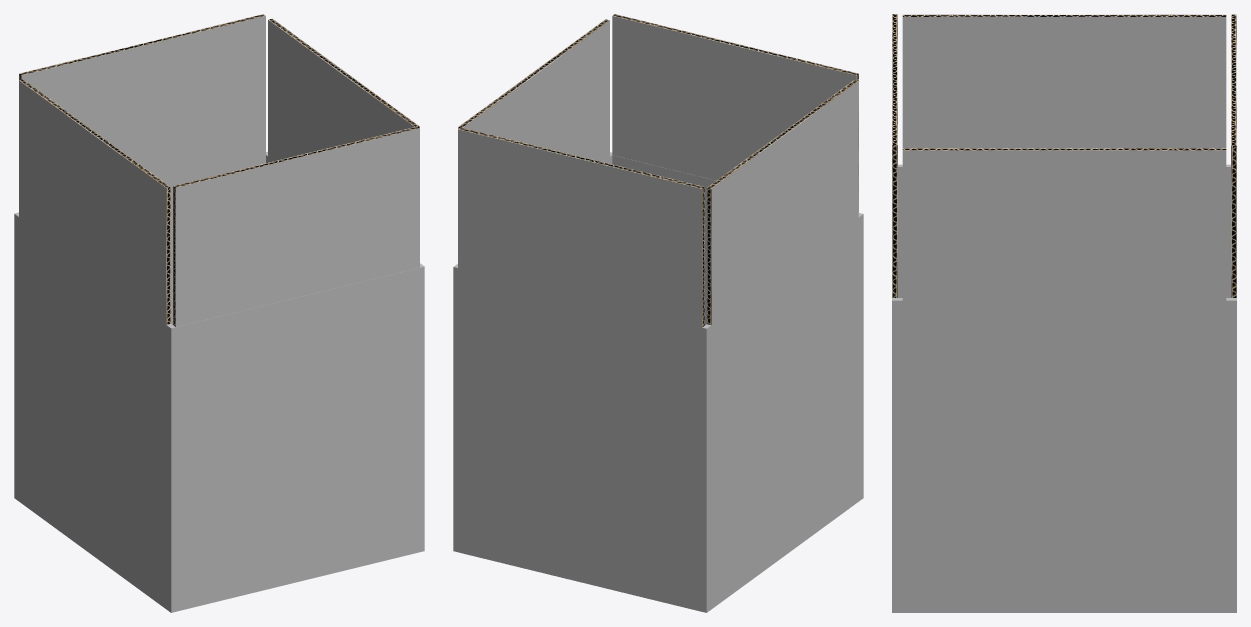
3 views of the same model, side by side, from view 1: azimuth 30°, elevation 25°; view 2: azimuth 150°, elevation 25°; view 3: azimuth 270°, elevation 25° (orthographic). The views are drawn at different scales.
Visible parts, largest first — view 1: side 3.001, side 2.001, top side 2.001, top side 1.001, top side 3.001, top side 4.001, side 4.001, side 1.001; view 2: side 1.001, side 2.001, top side 1.001, top side 2.001, top side 3.001, top side 4.001, side 4.001, side 3.001; view 3: side 4.001, top side 4.001, top side 3.001, top side 2.001, top side 1.001, side 2.001.
Boxes of the visible parts, <box> form: side 3.001: <box>173,267,419,611</box>; side 2.001: <box>14,212,175,612</box>; top side 2.001: <box>173,126,419,326</box>; top side 1.001: <box>19,14,265,180</box>; top side 3.001: <box>19,79,170,324</box>; top side 4.001: <box>268,18,419,161</box>; side 4.001: <box>266,151,424,551</box>; side 1.001: <box>162,155,265,324</box>; side 1.001: <box>458,268,701,611</box>; side 2.001: <box>702,213,863,612</box>; top side 1.001: <box>458,127,704,327</box>; top side 2.001: <box>612,14,858,212</box>; top side 3.001: <box>707,80,858,325</box>; top side 4.001: <box>458,19,609,162</box>; side 4.001: <box>453,152,612,552</box>; side 3.001: <box>612,155,716,325</box>; side 4.001: <box>892,298,1236,612</box>; top side 4.001: <box>902,148,1226,300</box>; top side 3.001: <box>902,14,1226,147</box>; top side 2.001: <box>892,14,897,297</box>; top side 1.001: <box>1231,14,1236,297</box>; side 2.001: <box>898,164,1230,297</box>.
Bounding box in the file's own units: 187 × 298 × 200.
